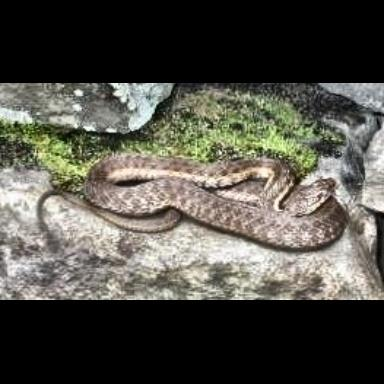snake: (84, 156, 351, 253)
